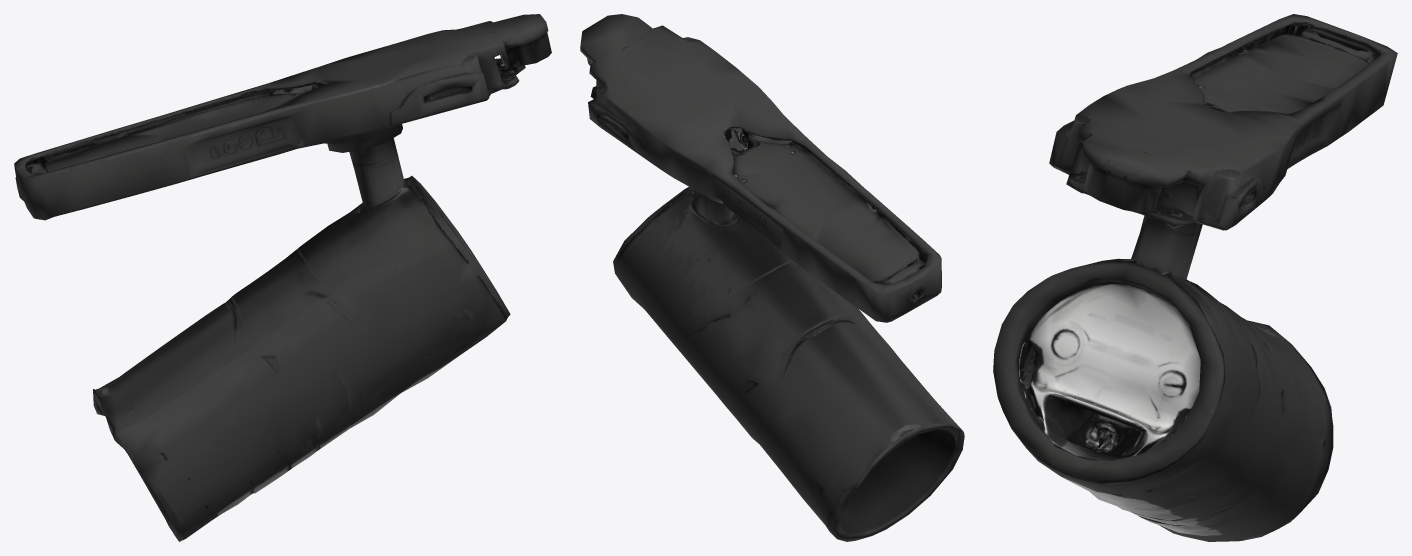
File: luminaria6.obj
The picture shows the model from 3 angles, left to right: view 1: azimuth 30°, elevation 25°; view 2: azimuth 150°, elevation 25°; view 3: azimuth 270°, elevation 25°; orthographic projection. The views are drawn at different scales.
Visible parts, largest first — view 1: luminaria6; view 2: luminaria6; view 3: luminaria6.
Part boxes in pixels (x1=…): luminaria6: x1=14, y1=14, x2=551, y2=541; luminaria6: x1=580, y1=14, x2=964, y2=541; luminaria6: x1=993, y1=14, x2=1397, y2=541.
Bounding box in the file's own units: 2.05 × 1.98 × 1.22.
1 material, 1 textured.
